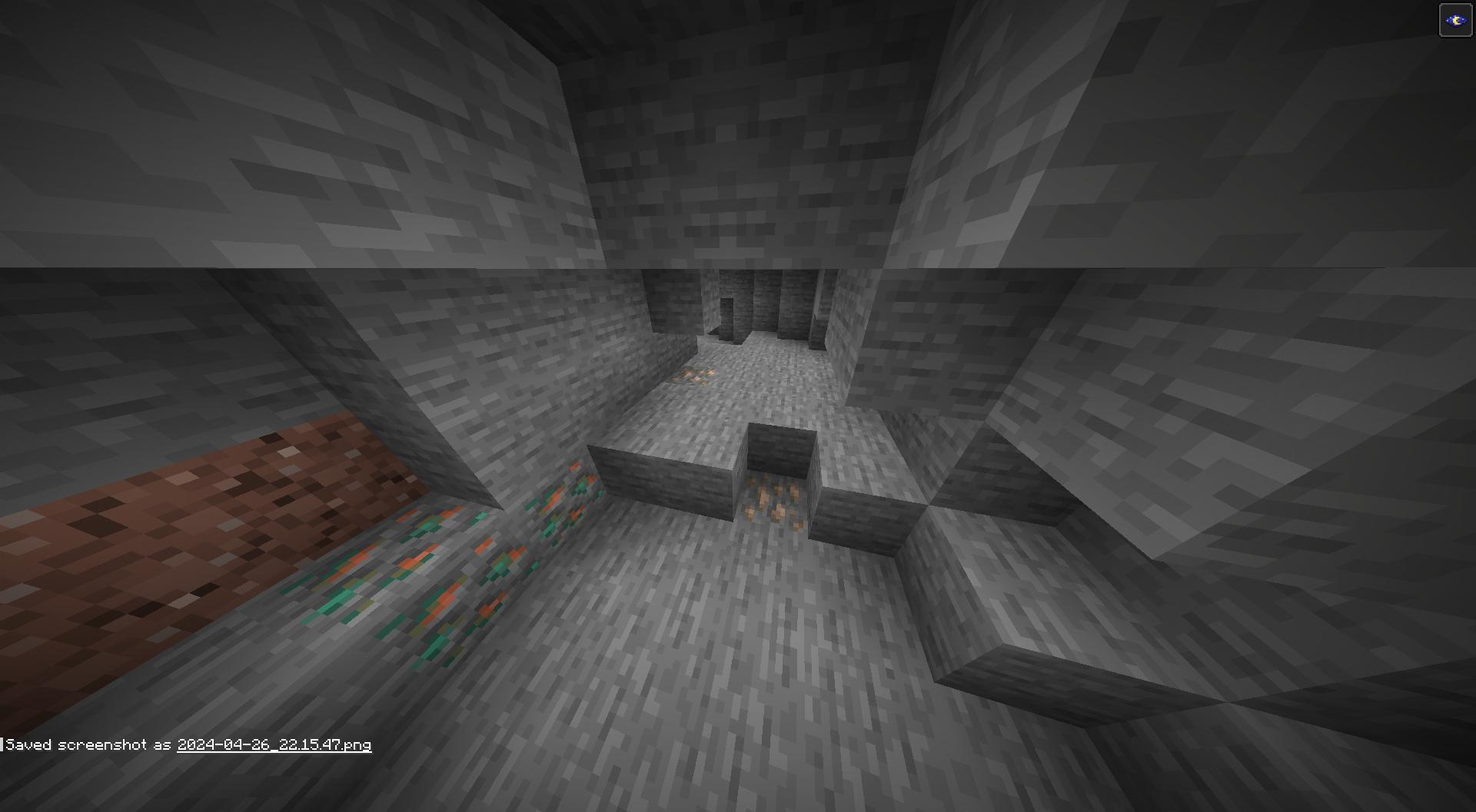iron ore: (741, 462, 807, 531), (670, 363, 712, 390)
